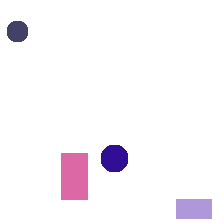circle: (101, 145, 127, 171), (7, 21, 27, 41)
rectangle: (61, 153, 87, 199), (176, 199, 211, 218)
